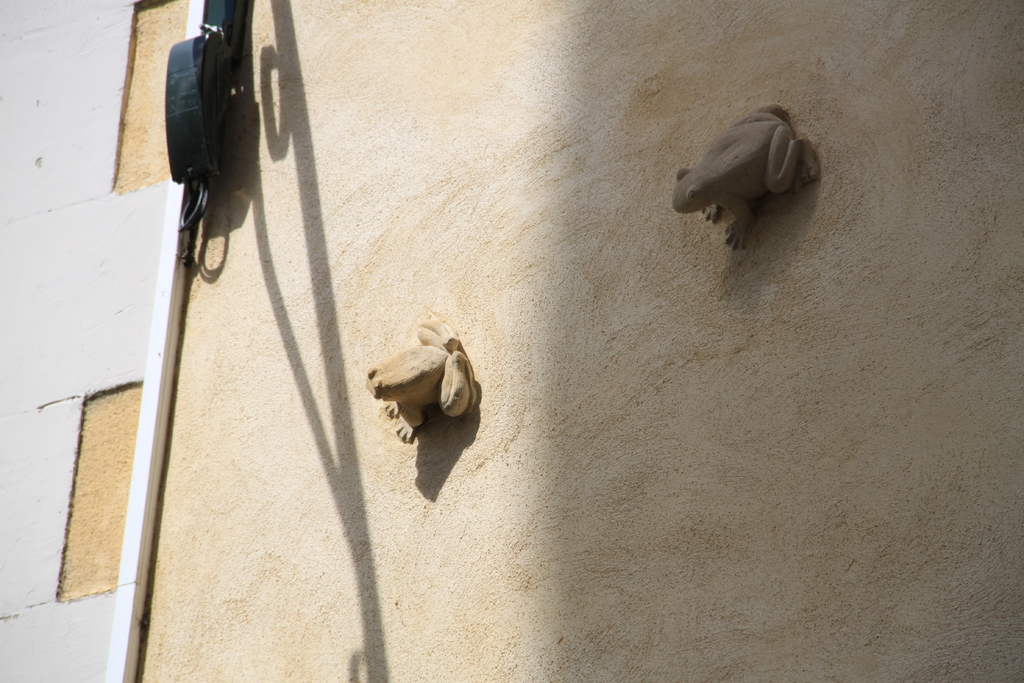Animal: (666, 101, 822, 255), (363, 320, 487, 452)
